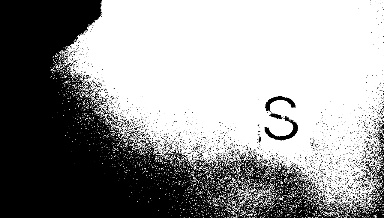S: (255, 89, 304, 143)
